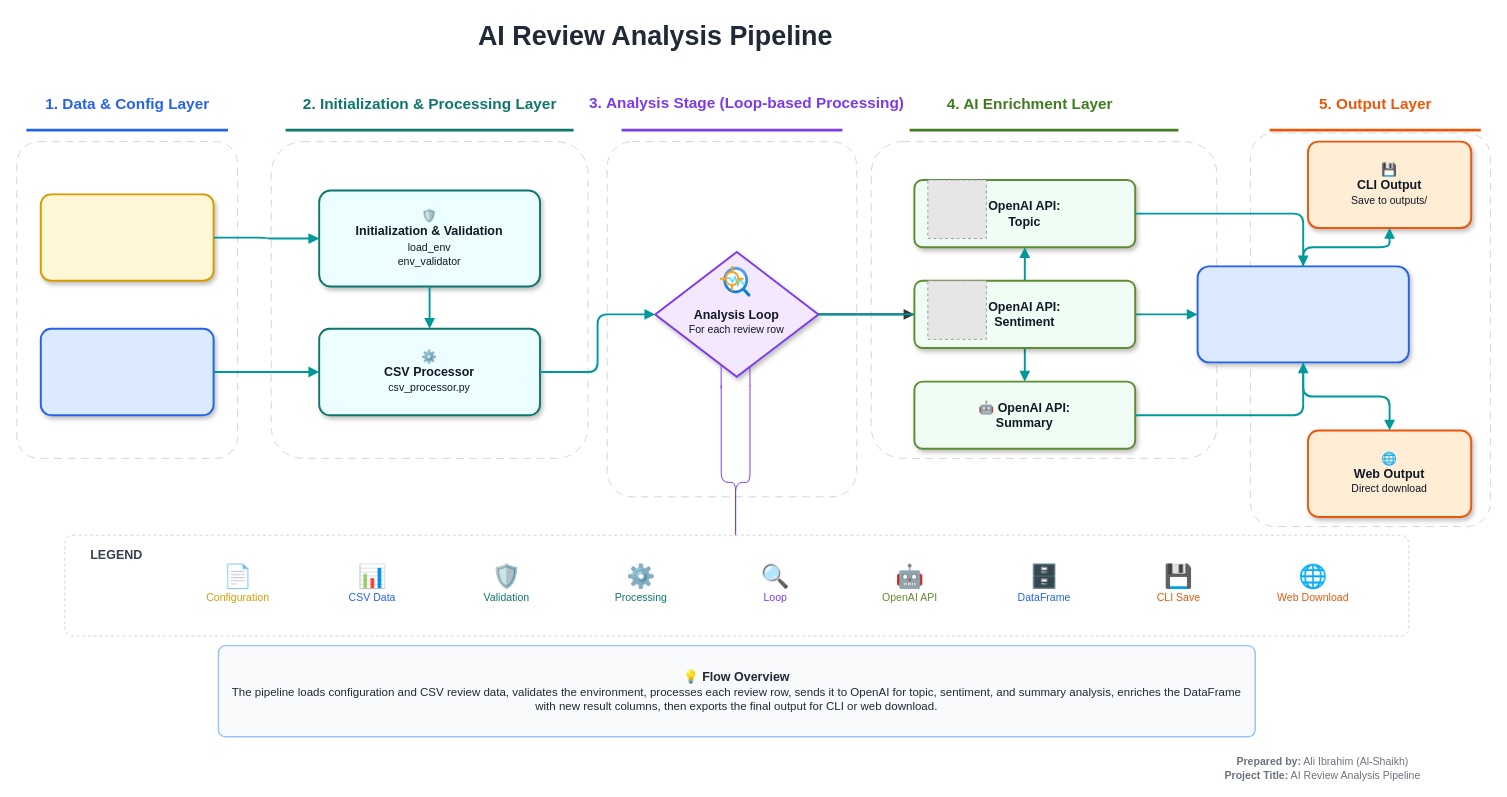
This 1507x797 diagram has some shape labels left out. Grey dashed boxes stand in for pictures. Here are the shapes that lost their labels. From the top down, the centre of each, then its label:
At (x=128, y=238): "📄 .env Config & Prompts (.txt)".
At (x=1303, y=315): "🗄️ DataFrame Enrichment Add result columns".
At (x=128, y=373): "📊 Input CSV File Reviews dataset".
At (x=735, y=482): "Row-by-row processing".
